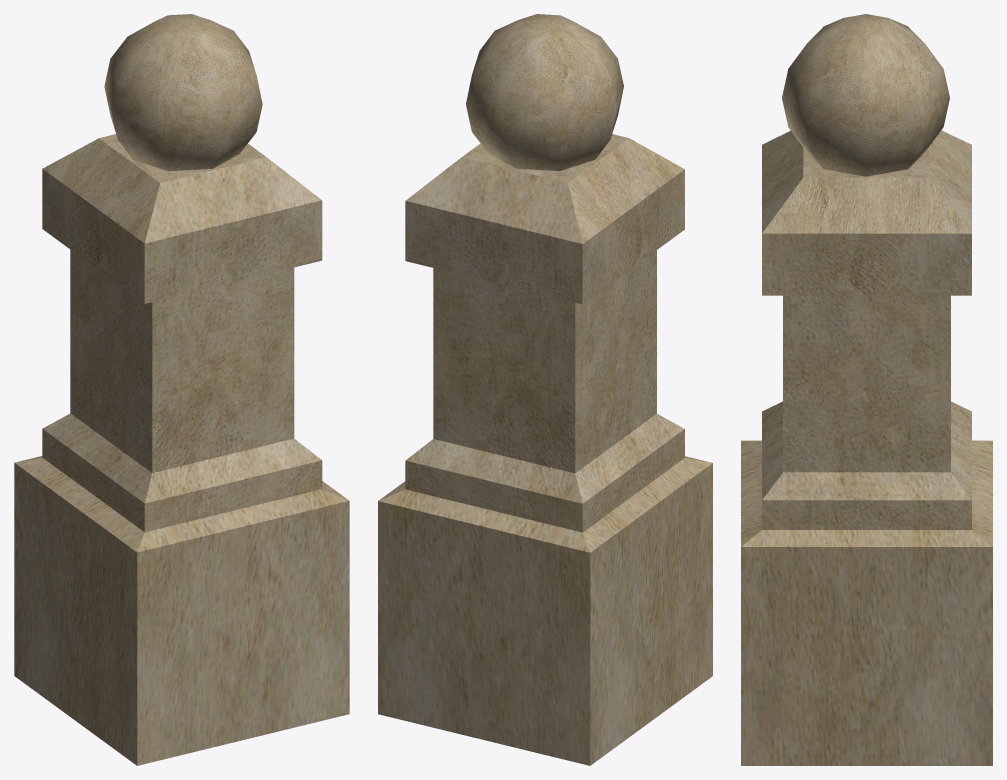
File: thm_nboo_imprv_pillar_s07_l0.fbx
3 views of the same model, side by side, from view 1: azimuth 30°, elevation 25°; view 2: azimuth 150°, elevation 25°; view 3: azimuth 270°, elevation 25° (orthographic). The views are drawn at different scales.
Parts seen in each view (by area): view 1: mesh_node; view 2: mesh_node; view 3: mesh_node.
Boxes of the visible parts, <box> form: mesh_node: <box>14,14,349,765</box>; mesh_node: <box>378,14,712,765</box>; mesh_node: <box>741,14,992,765</box>.
Bounding box in the file's own units: 0.5982 × 1.81 × 0.5993.
